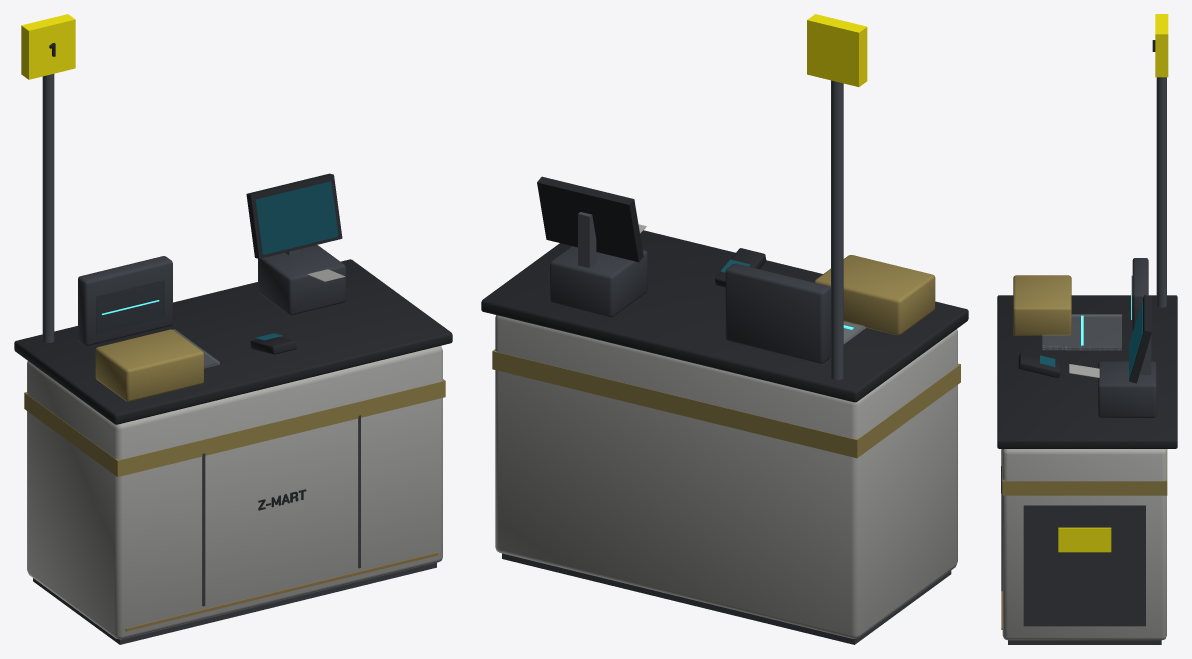
Rendered from checkout.glb.
3 views of the same model, side by side, from view 1: azimuth 30°, elevation 25°; view 2: azimuth 150°, elevation 25°; view 3: azimuth 270°, elevation 25° (orthographic). The views are drawn at different scales.
Visible parts, largest first — view 1: Body, Screen; view 2: Body; view 3: Body, Screen.
Boxes of the visible parts, x1,y1,x2,y2 form: Body: (14, 14, 452, 644); Screen: (255, 181, 338, 254); Body: (481, 14, 968, 644); Body: (997, 14, 1177, 644); Screen: (1129, 300, 1142, 377).
Size of the model in its own units: 1.3 by 2.04 by 0.68.
